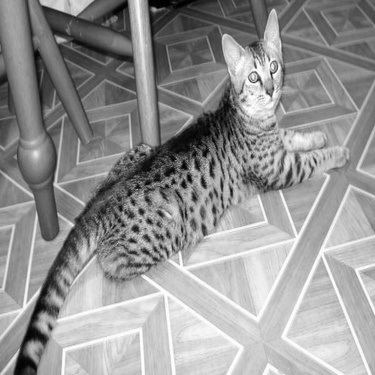cat: (22, 2, 347, 370)
